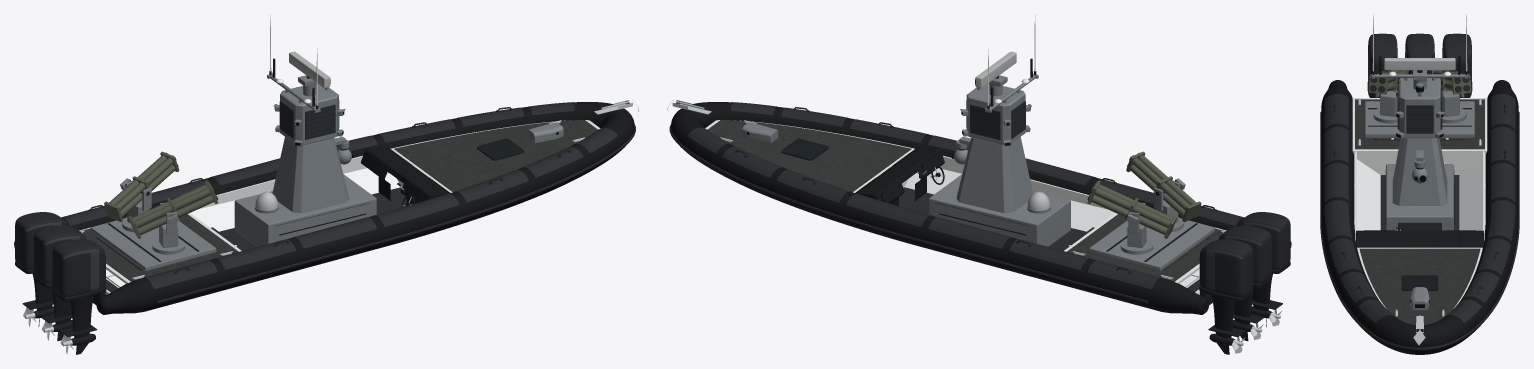
File: x12-autonomous.glb
The picture shows the model from 3 angles, left to right: view 1: azimuth 30°, elevation 25°; view 2: azimuth 150°, elevation 25°; view 3: azimuth 270°, elevation 25°; orthographic projection.
Visible parts, largest first — view 1: Tube collar, Foredeck, Sensor mast, Outboard (starboard), Mission electronics bay, Cockpit, Launcher deck, Air defence launcher (starboard), Outboard (centre), Helm console, Outboard (port), Aft deck (+5 smaller); view 2: Tube collar, Foredeck, Sensor mast, Outboard (port), Mission electronics bay, Cockpit, Launcher deck, Air defence launcher (port), Outboard (centre), Helm console, Outboard (starboard), Aft deck (+5 smaller); view 3: Tube collar, Foredeck, Cockpit, Sensor mast, Aft deck, Mission electronics bay, Helm console, Launcher deck, Air defence launcher (port), Air defence launcher (starboard), Navigation radar, Surveillance radar arrays (+10 smaller).
Part boxes in pixels (box(x1,y1,x2,y2)): Tube collar: box(14, 102, 635, 314); Foredeck: box(390, 119, 600, 192); Sensor mast: box(267, 73, 349, 213); Outboard (starboard): box(52, 239, 106, 354); Mission electronics bay: box(234, 174, 376, 246); Cockpit: box(190, 155, 406, 250); Launcher deck: box(90, 218, 216, 271); Air defence launcher (starboard): box(128, 180, 218, 254); Outboard (centre): box(33, 225, 86, 340); Helm console: box(361, 146, 450, 204); Outboard (port): box(15, 212, 67, 326); Aft deck: box(79, 213, 241, 283); Tube collar: box(669, 102, 1291, 314); Foredeck: box(705, 119, 914, 192); Sensor mast: box(956, 73, 1038, 213); Outboard (port): box(1199, 239, 1253, 354); Mission electronics bay: box(929, 174, 1070, 246); Cockpit: box(899, 155, 1114, 250); Launcher deck: box(1089, 218, 1214, 271); Air defence launcher (port): box(1087, 180, 1177, 254); Outboard (centre): box(1219, 225, 1271, 341); Helm console: box(855, 146, 944, 205); Outboard (starboard): box(1237, 212, 1290, 327); Aft deck: box(1064, 213, 1226, 283); Tube collar: box(1320, 80, 1519, 354); Foredeck: box(1357, 247, 1482, 325); Cockpit: box(1355, 151, 1484, 241); Sensor mast: box(1371, 73, 1468, 205); Aft deck: box(1352, 98, 1487, 153); Mission electronics bay: box(1385, 164, 1454, 230); Helm console: box(1356, 230, 1483, 247); Launcher deck: box(1365, 101, 1474, 137); Air defence launcher (port): box(1431, 70, 1471, 123); Air defence launcher (starboard): box(1368, 70, 1408, 123); Navigation radar: box(1384, 58, 1455, 89); Surveillance radar arrays: box(1397, 87, 1442, 133).
Size of the model in its own units: 12.62 by 5.07 by 3.65.
22 materials, 1 textured.
